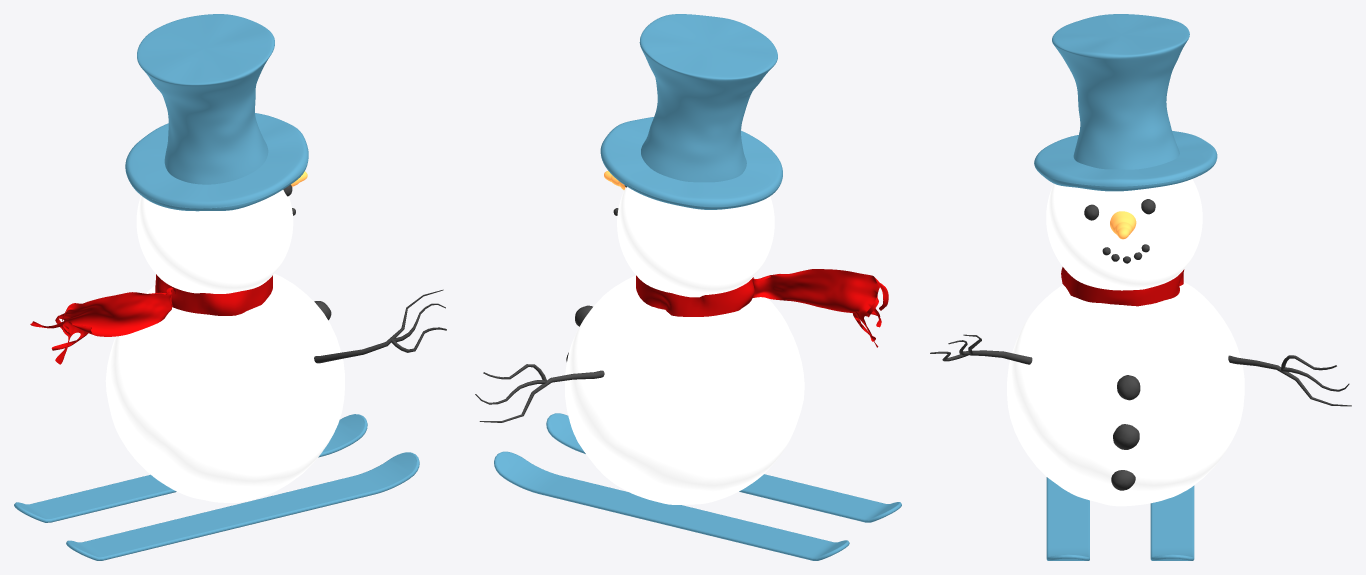
File: snowman_on_skis.glb
3 renders of one model, left to right at view 1: azimuth 30°, elevation 25°; view 2: azimuth 150°, elevation 25°; view 3: azimuth 270°, elevation 25°, orthographic.
Visible parts, largest first — view 1: Expression_1; view 2: Expression_1; view 3: Expression_1.
Boxes of the visible parts, x1=… form: Expression_1: x1=14, y1=14, x2=446, y2=560; Expression_1: x1=475, y1=14, x2=901, y2=560; Expression_1: x1=930, y1=14, x2=1351, y2=560.
Size of the model in its own units: 6.69 by 8.24 by 6.85.
